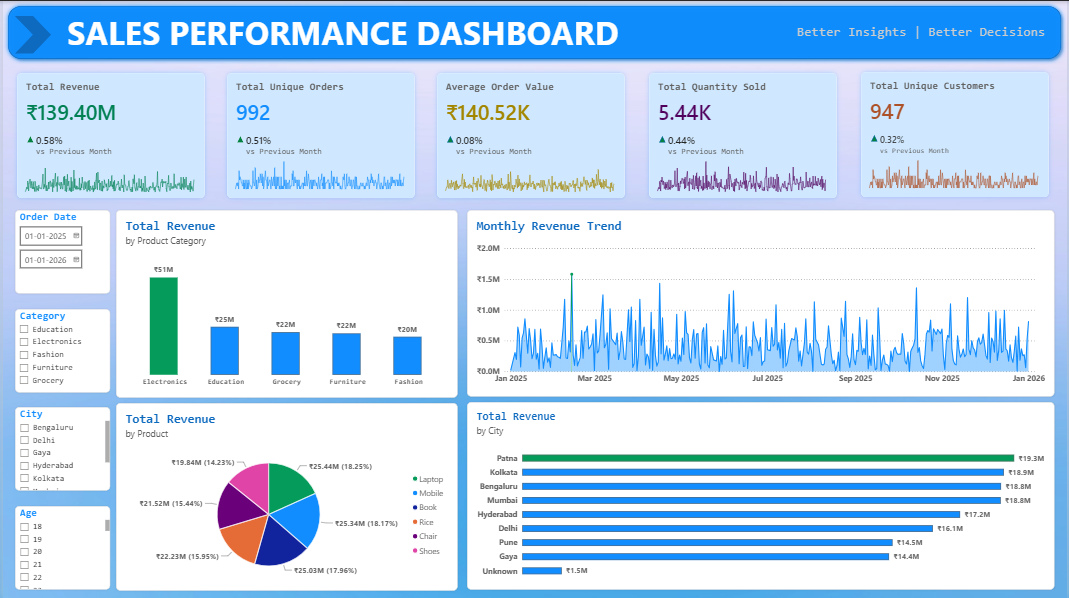

The page's visual inventory and layout, read from the dashboard file:
{"tool":"powerbi","page":{"name":"Page 1","canvas":[1920,1080],"ordinal":0},"visuals":[{"type":"shape","box":[0,0,1920,113.5],"z":0},{"type":"cardVisual","fields":{"Data":["New Measures.Unique Customers"]},"box":[1538.7,117.4,361.2,248.8],"z":0,"group":"g5"},{"type":"cardVisual","fields":{"Data":["New Measures.Total Revenue"]},"box":[14.3,118.6,361.2,248.8],"z":0,"group":"g1"},{"type":"cardVisual","fields":{"Data":["New Measures.Total Orders"]},"box":[394.3,118.6,361.2,248.8],"z":0,"group":"g2"},{"type":"cardVisual","fields":{"Data":["New Measures.Average Order Value"]},"box":[772.9,118.6,361.2,248.8],"z":0,"group":"g3"},{"type":"cardVisual","fields":{"Data":["New Measures.Total Quantity Sold"]},"box":[1155.7,118.6,361.2,248.8],"z":0,"group":"g4"},{"type":"group","id":"g1","title":"Group 1","box":[14.3,118.6,360,247.1],"z":1000},{"type":"cardVisual","title":"vs Previous Month","fields":{"Data":["New Measures.Unique Customers Change %"]},"box":[1557.5,224.9,201.2,66.5],"z":1000,"group":"g5"},{"type":"cardVisual","title":"vs Previous Month","fields":{"Data":["New Measures.Revenue Change %"]},"box":[33.1,226.1,201.2,66.5],"z":1000,"group":"g1"},{"type":"cardVisual","title":"vs Previous Month","fields":{"Data":["New Measures.Orders Change %"]},"box":[413.1,226.1,201.2,66.5],"z":1000,"group":"g2"},{"type":"cardVisual","title":"vs Previous Month","fields":{"Data":["New Measures.Average Order Value Change %"]},"box":[791.7,226.1,201.2,66.5],"z":1000,"group":"g3"},{"type":"cardVisual","title":"vs Previous Month","fields":{"Data":["New Measures.Quantity Sold Change %"]},"box":[1174.5,226.1,201.2,66.5],"z":1000,"group":"g4"},{"type":"group","id":"g2","title":"Group 2","box":[394.3,118.6,361.4,245.7],"z":2000},{"type":"shape","box":[1567,241.7,12.1,12.1],"z":2000,"group":"g5"},{"type":"shape","box":[42.6,242.9,12.1,12.1],"z":2000,"group":"g1"},{"type":"shape","box":[422.6,242.9,12.1,12.1],"z":2000,"group":"g2"},{"type":"shape","box":[801.2,242.9,12.1,12.1],"z":2000,"group":"g3"},{"type":"shape","box":[1184,242.9,12.1,12.1],"z":2000,"group":"g4"},{"type":"group","id":"g3","title":"Group 3","box":[772.9,118.6,361.4,245.7],"z":3000},{"type":"lineChart","fields":{"Category":["Calendar.Date"],"Y":["New Measures.Total Unique Orders"]},"box":[1538.7,265,356.5,94.7],"z":3000,"group":"g5"},{"type":"lineChart","fields":{"Category":["Calendar.Date"],"Y":["New Measures.Total Revenue"]},"box":[14.3,266.2,356.5,94.7],"z":3000,"group":"g1"},{"type":"lineChart","fields":{"Category":["Calendar.Date"],"Y":["New Measures.Total Orders"]},"box":[394.3,266.2,356.5,94.7],"z":3000,"group":"g2"},{"type":"lineChart","fields":{"Category":["Calendar.Date"],"Y":["New Measures.Average Order Value"]},"box":[772.9,266.2,356.5,94.7],"z":3000,"group":"g3"},{"type":"lineChart","fields":{"Category":["Calendar.Date"],"Y":["Sum(Sales_Dataset.Quantity)"]},"box":[1155.7,266.2,356.5,94.7],"z":3000,"group":"g4"},{"type":"group","id":"g4","title":"Group 4","box":[1155.7,118.6,362.9,245.7],"z":4000},{"type":"group","id":"g5","title":"Group 4","box":[1538.7,117.4,361.2,247.4],"z":5000},{"type":"textbox","box":[1434.8,35.1,460.4,43.4],"z":6000},{"type":"shape","box":[22.5,26.2,65,67.5],"z":7000},{"type":"clusteredColumnChart","title":"Total Revenue","fields":{"Category":["Sales_Dataset.Category"],"Y":["New Measures.Total Revenue"]},"box":[204.4,377.8,617.3,338.6],"z":8000},{"type":"pieChart","fields":{"Category":["Sales_Dataset.Product"],"Y":["New Measures.Total Revenue"]},"box":[204.4,725.6,617.3,338.6],"z":9000},{"type":"lineChart","title":"Monthly Revenue Trend","fields":{"Category":["Sales_Dataset.Order_Date"],"Y":["New Measures.Total Revenue"]},"box":[837.8,377.8,1061.1,336.7],"z":10000},{"type":"clusteredBarChart","fields":{"Category":["Sales_Dataset.City"],"Y":["New Measures.Total Revenue"]},"box":[837.8,724.4,1061.1,338.9],"z":11000},{"type":"slicer","fields":{"Values":["Sales_Dataset.Order_Date"]},"box":[22.2,377.8,172.2,151.1],"z":11001},{"type":"slicer","fields":{"Values":["Sales_Dataset.Category"]},"box":[22.2,555.6,172.2,151.1],"z":11002},{"type":"slicer","fields":{"Values":["Sales_Dataset.City"]},"box":[22.2,733.3,172.2,151.1],"z":11003},{"type":"slicer","fields":{"Values":["Sales_Dataset.Age"]},"box":[22.2,912.2,172.2,151.1],"z":11004}]}

Visuals, with their boxes in screenshot pixels (x1, y1, x2, y2), scaled from the page's 1920x1080 canvas onto the 1069x598 screenshot:
shape: <region>0, 0, 1068, 63</region>
cardVisual - New Measures.Unique Customers: <region>857, 65, 1058, 203</region>
cardVisual - New Measures.Total Revenue: <region>8, 66, 209, 203</region>
cardVisual - New Measures.Total Orders: <region>220, 66, 421, 203</region>
cardVisual - New Measures.Average Order Value: <region>430, 66, 631, 203</region>
cardVisual - New Measures.Total Quantity Sold: <region>643, 66, 845, 203</region>
"Group 1" group: <region>8, 66, 208, 202</region>
"vs Previous Month" cardVisual: <region>867, 125, 979, 161</region>
"vs Previous Month" cardVisual: <region>18, 125, 130, 162</region>
"vs Previous Month" cardVisual: <region>230, 125, 342, 162</region>
"vs Previous Month" cardVisual: <region>441, 125, 553, 162</region>
"vs Previous Month" cardVisual: <region>654, 125, 766, 162</region>
"Group 2" group: <region>220, 66, 421, 202</region>
shape: <region>872, 134, 879, 141</region>
shape: <region>24, 134, 30, 141</region>
shape: <region>235, 134, 242, 141</region>
shape: <region>446, 134, 453, 141</region>
shape: <region>659, 134, 666, 141</region>
"Group 3" group: <region>430, 66, 632, 202</region>
lineChart - Calendar.Date x New Measures.Total Unique Orders: <region>857, 147, 1055, 199</region>
lineChart - Calendar.Date x New Measures.Total Revenue: <region>8, 147, 206, 200</region>
lineChart - Calendar.Date x New Measures.Total Orders: <region>220, 147, 418, 200</region>
lineChart - Calendar.Date x New Measures.Average Order Value: <region>430, 147, 629, 200</region>
lineChart - Calendar.Date x Sum(Sales_Dataset.Quantity): <region>643, 147, 842, 200</region>
"Group 4" group: <region>643, 66, 846, 202</region>
"Group 4" group: <region>857, 65, 1058, 202</region>
textbox: <region>799, 19, 1055, 43</region>
shape: <region>13, 15, 49, 52</region>
"Total Revenue" clusteredColumnChart: <region>114, 209, 457, 397</region>
pieChart - Sales_Dataset.Product x New Measures.Total Revenue: <region>114, 402, 457, 589</region>
"Monthly Revenue Trend" lineChart: <region>466, 209, 1057, 396</region>
clusteredBarChart - Sales_Dataset.City x New Measures.Total Revenue: <region>466, 401, 1057, 589</region>
slicer - Sales_Dataset.Order_Date: <region>12, 209, 108, 293</region>
slicer - Sales_Dataset.Category: <region>12, 308, 108, 391</region>
slicer - Sales_Dataset.City: <region>12, 406, 108, 490</region>
slicer - Sales_Dataset.Age: <region>12, 505, 108, 589</region>
